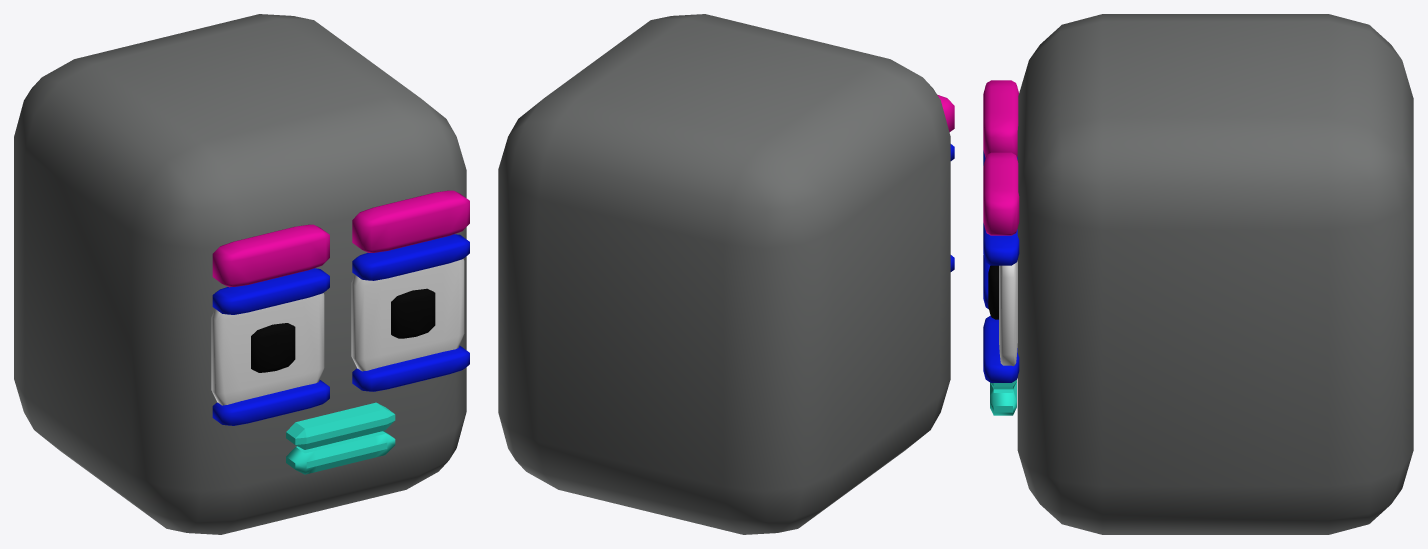
File: Robot (2).glb
3 renders of one model, left to right at view 1: azimuth 30°, elevation 25°; view 2: azimuth 150°, elevation 25°; view 3: azimuth 270°, elevation 25°, orthographic. The views are drawn at different scales.
Parts seen in each view (by area): view 1: Cube; view 2: Cube; view 3: Cube.
Part boxes in pixels (left/top/right/bottom): Cube: left=14, top=14, right=469, bottom=534; Cube: left=498, top=14, right=954, bottom=534; Cube: left=983, top=14, right=1413, bottom=534.
Size of the model in its own units: 0.7 by 0.8 by 0.7606.
